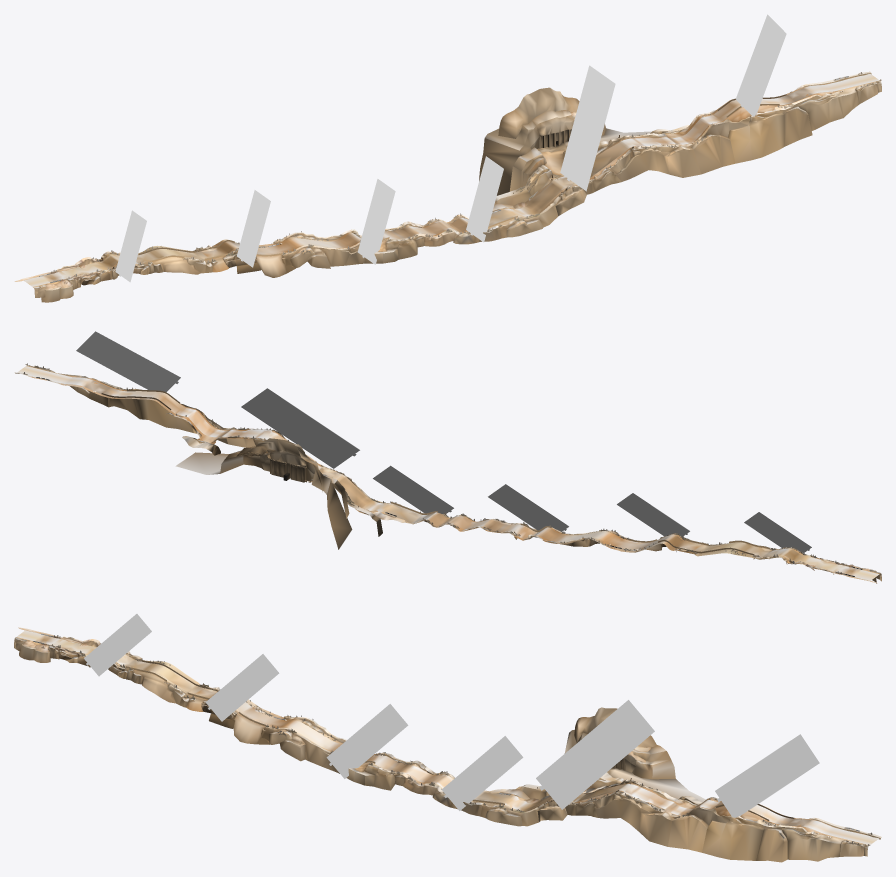
File: Desert_01.fbx
The picture shows the model from 3 angles, top to bottom: view 1: azimuth 30°, elevation 25°; view 2: azimuth 150°, elevation 25°; view 3: azimuth 330°, elevation 25°; orthographic projection.
Visible parts, largest first — view 1: Mountain_01, Light_01, Ground_01, Road_01, Tree_01, Ground_02, Leak_01; view 2: Light_01, Mountain_01, Ground_01, Road_01, Tree_01, Leak_01, Pattern_01; view 3: Mountain_01, Light_01, Ground_01, Road_01, Tree_01, Ground_02, Leak_01.
Boxes of the visible parts, x1,y1,x2,y2 form: Mountain_01: [33, 71, 881, 302]; Light_01: [115, 14, 786, 282]; Ground_01: [24, 73, 878, 286]; Road_01: [33, 76, 874, 287]; Tree_01: [50, 72, 881, 283]; Ground_02: [14, 112, 576, 289]; Leak_01: [139, 94, 786, 263]; Light_01: [76, 331, 811, 552]; Mountain_01: [14, 365, 881, 583]; Ground_01: [17, 366, 878, 580]; Road_01: [26, 365, 879, 580]; Tree_01: [23, 363, 853, 574]; Leak_01: [101, 389, 770, 554]; Pattern_01: [260, 431, 801, 562]; Mountain_01: [14, 636, 881, 862]; Light_01: [84, 614, 819, 817]; Ground_01: [17, 630, 878, 844]; Road_01: [16, 633, 866, 843]; Tree_01: [41, 635, 872, 845]; Ground_02: [18, 627, 650, 803]; Leak_01: [125, 660, 794, 820].
Size of the model in its own units: 68225 by 10279 by 8316.
